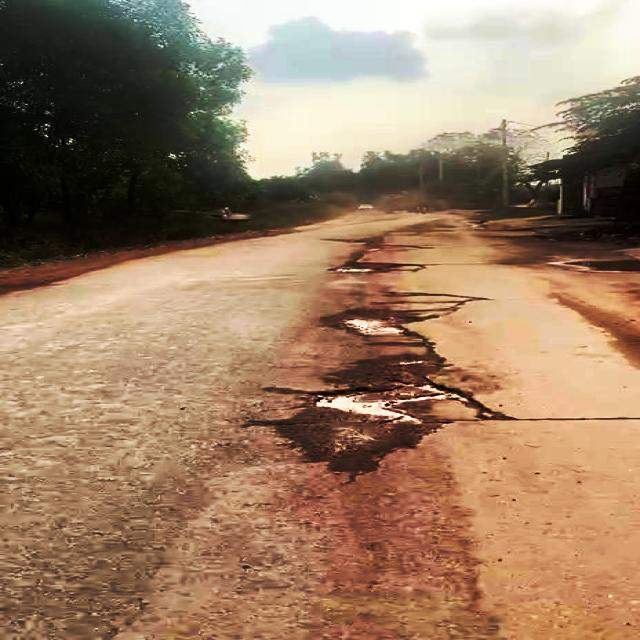pothole: (302, 378, 497, 430), (327, 306, 429, 339), (326, 260, 422, 275)
